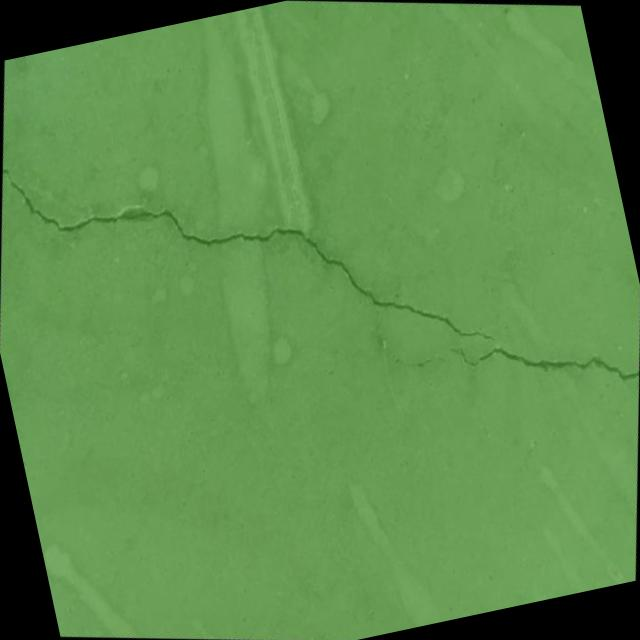crack: (0, 42, 640, 511)
